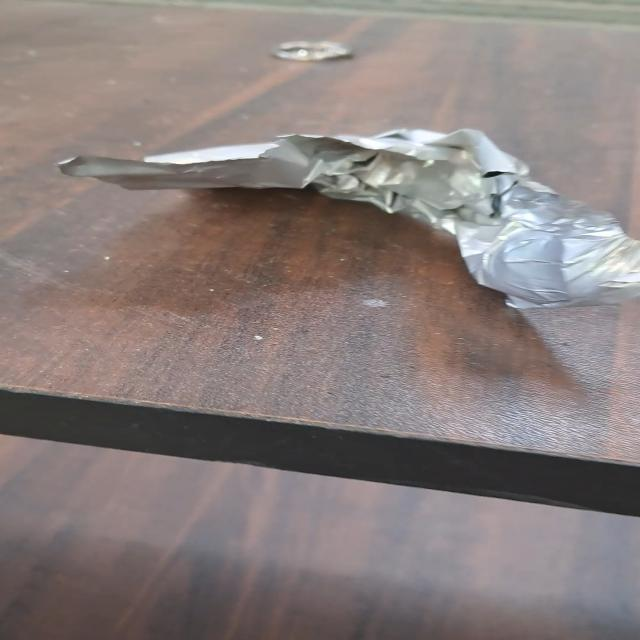Anorganik: (47, 121, 640, 322)
